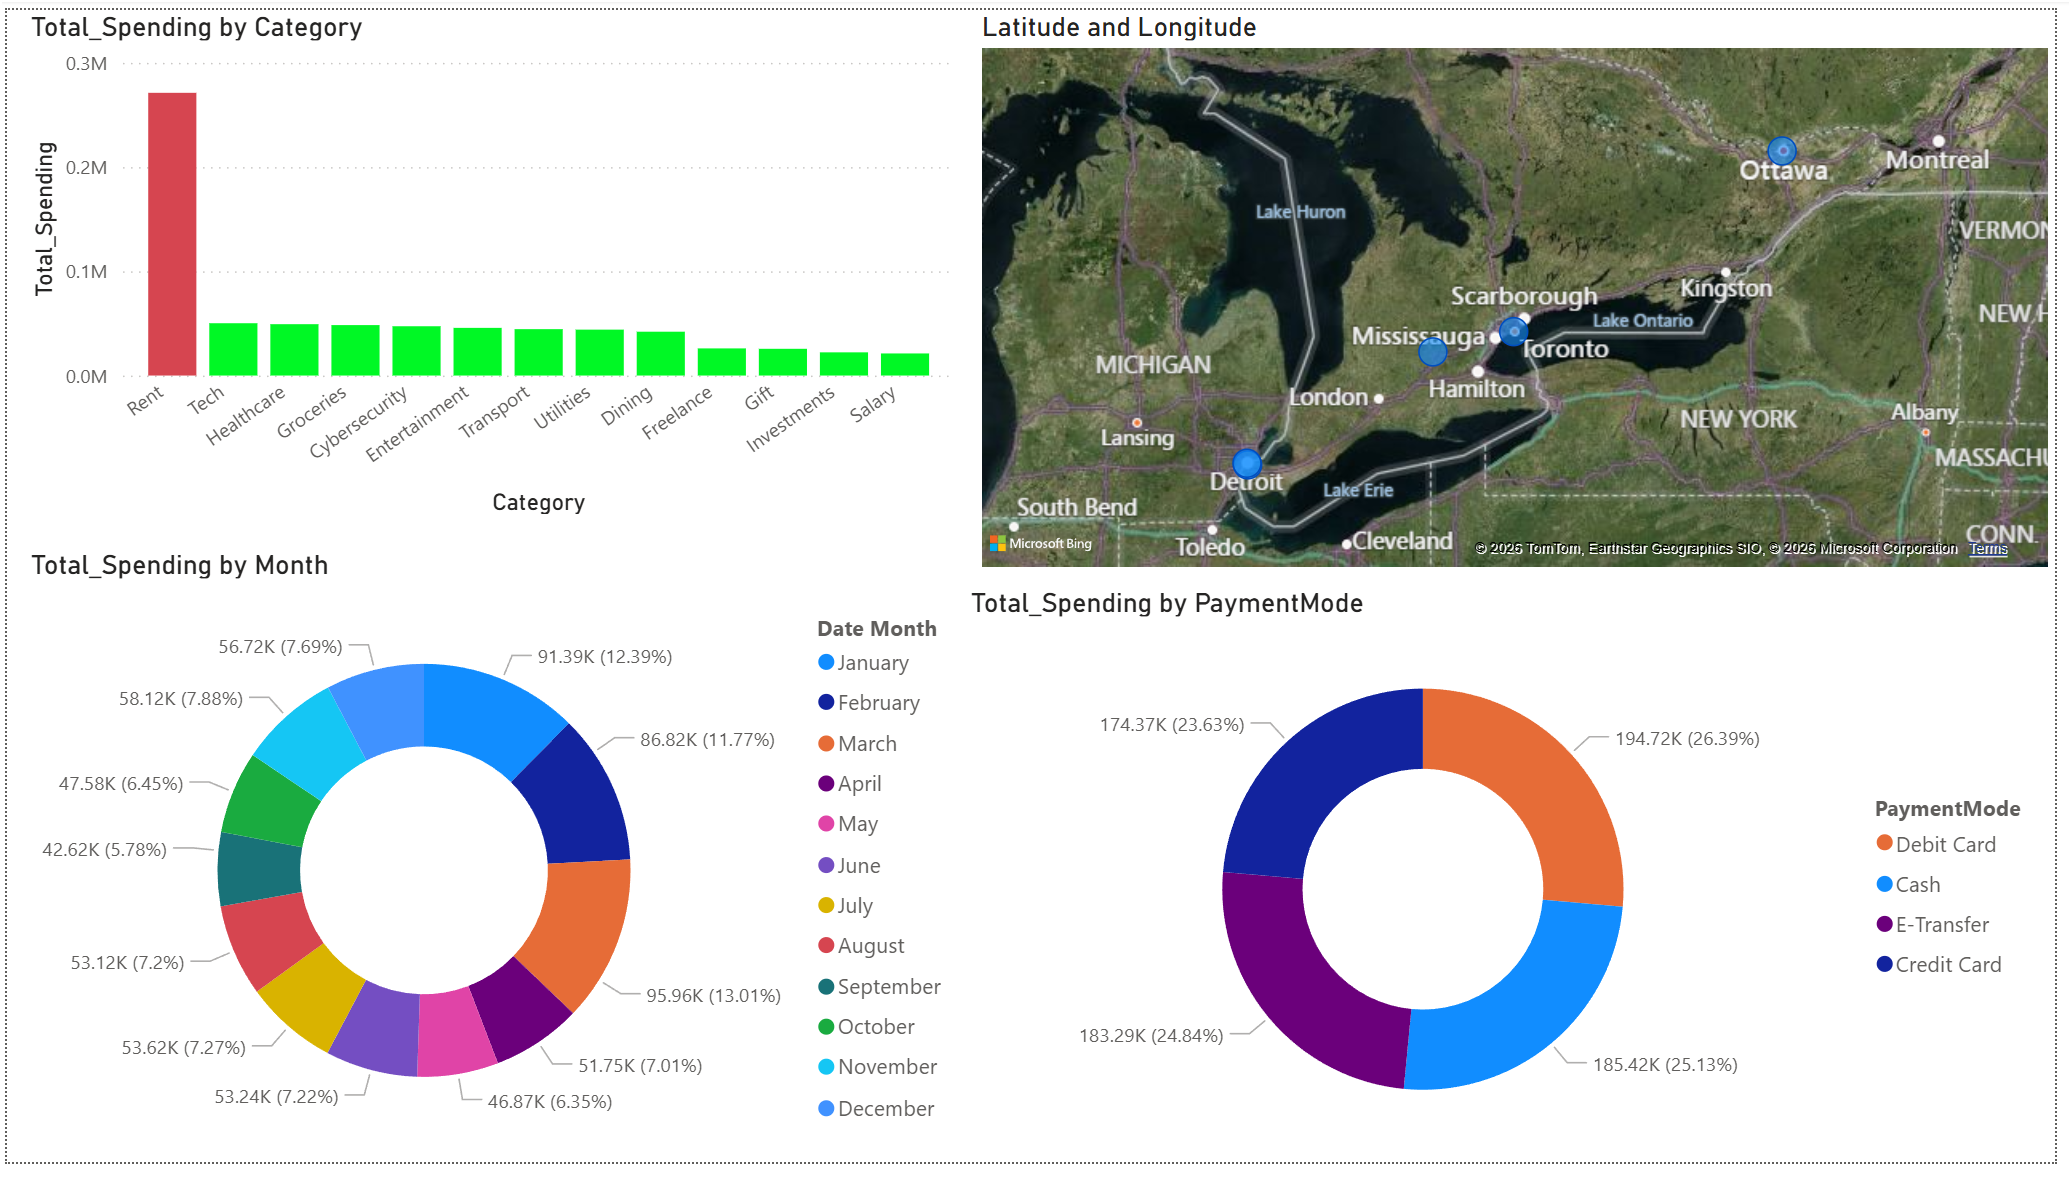

Layout of this report page (visuals, bound fields, positions):
{"tool":"powerbi","page":{"name":"Executive Summary","canvas":[1280,720],"ordinal":0},"visuals":[{"type":"clusteredColumnChart","fields":{"Category":["Fact_Transactions.Category"],"Y":["Dim_Date.Total_Spending"]},"box":[10.2,0,587,320.5],"z":0},{"type":"donutChart","fields":{"Category":["Dim_Date.Date.Variation.Date Hierarchy.Month"],"Y":["Dim_Date.Total_Spending"]},"box":[10.2,336,594.2,384],"z":1000},{"type":"map","fields":{"Y":["Fact_Transactions.Latitude"],"X":["Fact_Transactions.Longitude"]},"box":[604.4,0,675.7,353.4],"z":2000},{"type":"donutChart","fields":{"Category":["Fact_Transactions.PaymentMode"],"Y":["Dim_Date.Total_Spending"]},"box":[597.2,360,682.9,360],"z":3000}]}

Visuals, with their boxes in screenshot pixels (x1, y1, x2, y2), scaled from the page's 1280x720 canvas onto the 2071x1178 screenshot:
clusteredColumnChart - Fact_Transactions.Category x Dim_Date.Total_Spending: [17, 0, 966, 524]
donutChart - Dim_Date.Date.Variation.Date Hierarchy.Month x Dim_Date.Total_Spending: [17, 550, 978, 1177]
map - Fact_Transactions.Latitude x Fact_Transactions.Longitude: [978, 0, 2070, 578]
donutChart - Fact_Transactions.PaymentMode x Dim_Date.Total_Spending: [966, 589, 2070, 1177]
